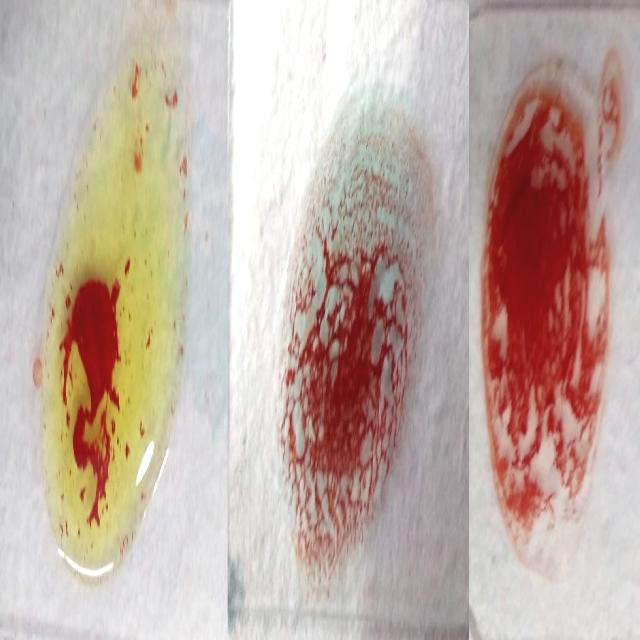A: (282, 93, 428, 610)
B: (41, 30, 185, 598)
D: (480, 41, 610, 590)
